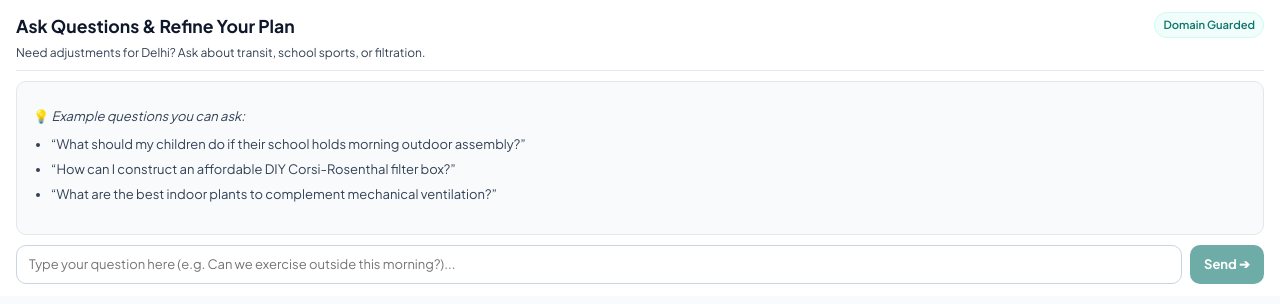
ChatWidget Component › sends message on form submit and displays user and assistant bubbles
Type "Can we exercise in the morning?" into the field with placeholder "Type your question here".
click(599, 264); type("Can we exercise in the morning?")  # box [16,245,1182,284]
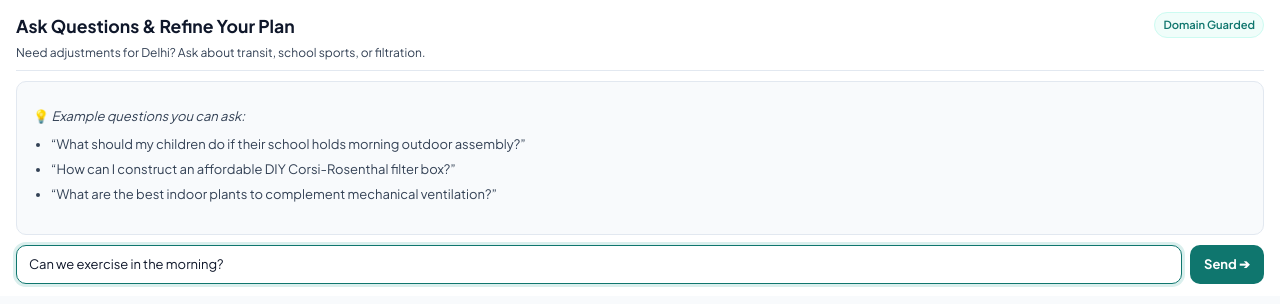
Click the button with aria-label "Send question".
click(1227, 264)  # box [1190,245,1264,284]
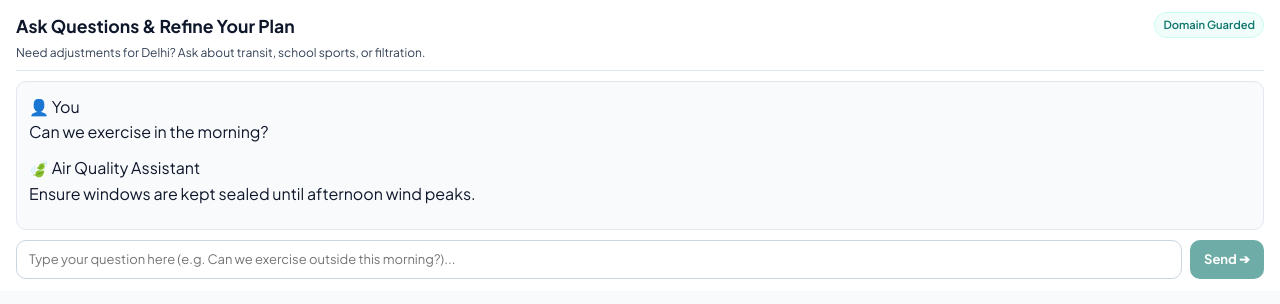
Check: the text "Can we exercise in the morning?" is shown, box [29,121,268,142]
Check: the text "Ensure windows are kept sealed until afternoon wind peaks." is shown, box [29,183,476,204]
